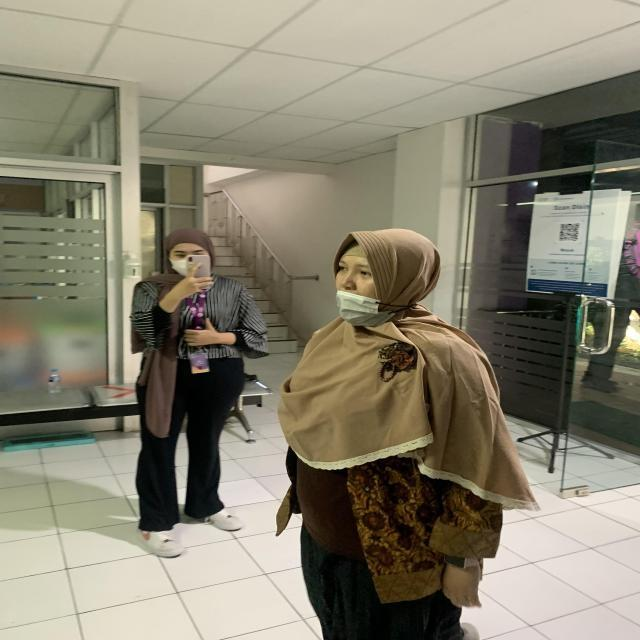hairnet: (330, 222, 442, 326), (156, 226, 219, 279)
